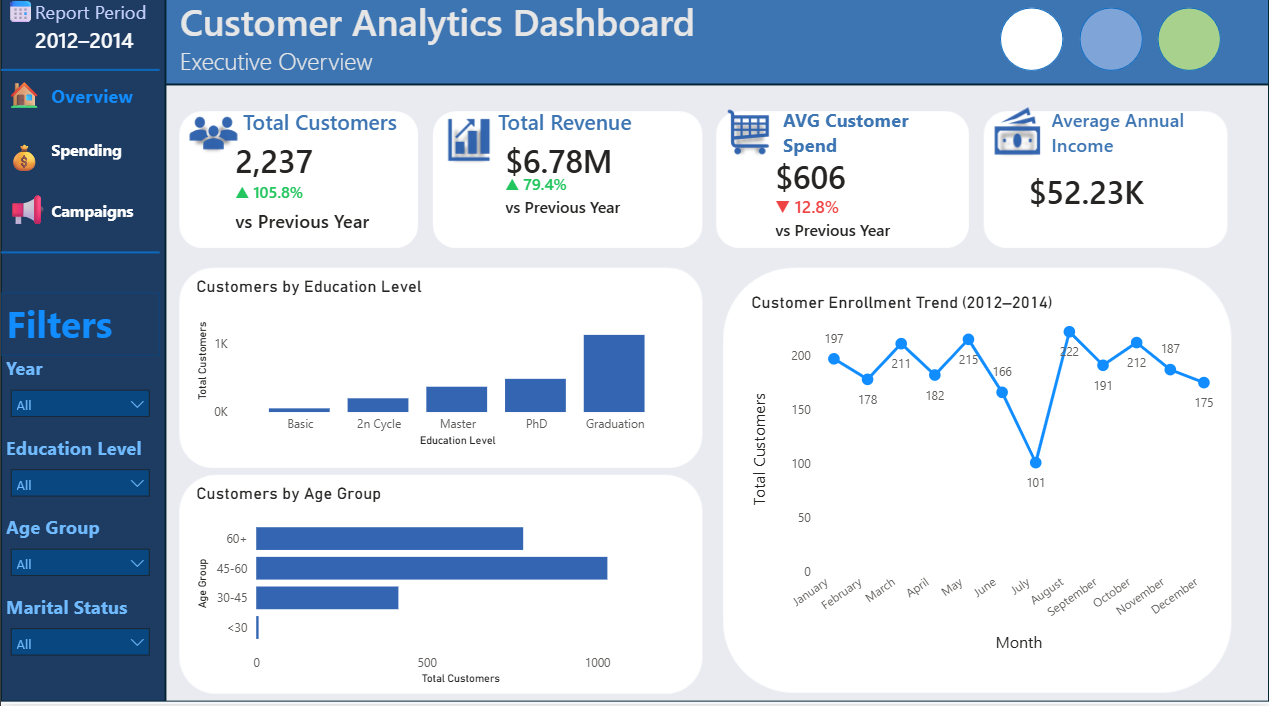

What the dashboard file says about the page in this screenshot:
{"tool":"powerbi","page":{"name":"Overview","canvas":[1280,720],"ordinal":0},"visuals":[{"type":"lineChart","fields":{"Y":["cleaned_marketing_campaign.Total Customers"],"Category":["Calendar.Year","Calendar.Month"]},"box":[752,304,480,368],"z":0},{"type":"clusteredBarChart","title":"Customers by Age Group","fields":{"Category":["cleaned_marketing_campaign.Age Group"],"Y":["cleaned_marketing_campaign.Total Customers"]},"box":[192,496,496,208],"z":1000},{"type":"clusteredColumnChart","title":"Customers by Education Level","fields":{"Category":["cleaned_marketing_campaign.Education Level"],"Y":["cleaned_marketing_campaign.Total Customers"]},"box":[192,288,496,176],"z":2000},{"type":"cardVisual","fields":{"Data":["cleaned_marketing_campaign.Total Customers"]},"box":[208,128,192,80],"z":3000},{"type":"cardVisual","fields":{"Data":["cleaned_marketing_campaign.Total Revenue"]},"box":[480,128,224,80],"z":4000},{"type":"cardVisual","fields":{"Data":["Calendar.Average Customer Spend"]},"box":[752,128,208,112],"z":5000},{"type":"cardVisual","fields":{"Data":["cleaned_marketing_campaign.Average Income"]},"box":[1008,144,208,112],"z":6000},{"type":"textbox","box":[240,112,224,64],"z":7000},{"type":"textbox","box":[496,112,208,80],"z":8000},{"type":"textbox","box":[784,112,192,64],"z":9000},{"type":"textbox","box":[1056,112,208,64],"z":10000},{"type":"pageNavigator","box":[32,64,128,192],"z":11000},{"type":"textbox","box":[0,80,80,48],"z":12000},{"type":"textbox","box":[0,144,64,48],"z":13000},{"type":"textbox","box":[0,192,48,64],"z":14000},{"type":"shape","box":[0,256,160,16],"z":15000},{"type":"shape","box":[0,64,160,32],"z":16000},{"type":"slicer","title":"Year","fields":{"Values":["Calendar.Year"]},"box":[0,368,160,80],"z":17000},{"type":"slicer","title":"Education Level","fields":{"Values":["cleaned_marketing_campaign.Education Level"]},"box":[0,448,160,80],"z":18000},{"type":"slicer","title":"Age Group","fields":{"Values":["cleaned_marketing_campaign.Age Group"]},"box":[0,528,160,80],"z":19000},{"type":"slicer","title":"Marital Status","fields":{"Values":["cleaned_marketing_campaign.Marital Status"]},"box":[0,608,160,64],"z":20000},{"type":"textbox","box":[0,304,160,64],"z":21000},{"type":"textbox","box":[176,0,672,80],"z":22000},{"type":"textbox","box":[176,48,560,80],"z":23000},{"type":"textbox","box":[0,0,160,96],"z":24000},{"type":"shape","box":[1008,16,64,64],"z":25000},{"type":"shape","box":[1088,16,64,64],"z":26000},{"type":"shape","box":[1168,16,64,64],"z":27000},{"type":"cardVisual","fields":{"Data":["Calendar.Customer Growth Label"]},"box":[208,160,128,80],"z":28000},{"type":"cardVisual","fields":{"Data":["Calendar.Customer Growth Text"]},"box":[208,192,224,80],"z":29000},{"type":"cardVisual","fields":{"Data":["Calendar.Revenue Growth Label"]},"box":[480,160,160,64],"z":30000},{"type":"cardVisual","fields":{"Data":["Calendar.Average Customer Spend Growth Label"]},"box":[752,176,160,80],"z":31000},{"type":"cardVisual","fields":{"Data":["Calendar.Customer Growth Text"]},"box":[752,208,176,64],"z":32000},{"type":"cardVisual","fields":{"Data":["Calendar.Customer Growth Text"]},"box":[480,176,176,80],"z":33000}]}

Visuals, with their boxes in screenshot pixels (x1, y1, x2, y2), scaled from the page's 1280x720 canvas onto the 1269x706 screenshot:
lineChart - cleaned_marketing_campaign.Total Customers x Calendar.Year: left=746, top=298, right=1221, bottom=659
"Customers by Age Group" clusteredBarChart: left=190, top=486, right=682, bottom=690
"Customers by Education Level" clusteredColumnChart: left=190, top=282, right=682, bottom=455
cardVisual - cleaned_marketing_campaign.Total Customers: left=206, top=126, right=397, bottom=204
cardVisual - cleaned_marketing_campaign.Total Revenue: left=476, top=126, right=698, bottom=204
cardVisual - Calendar.Average Customer Spend: left=746, top=126, right=952, bottom=235
cardVisual - cleaned_marketing_campaign.Average Income: left=999, top=141, right=1206, bottom=251
textbox: left=238, top=110, right=460, bottom=173
textbox: left=492, top=110, right=698, bottom=188
textbox: left=777, top=110, right=968, bottom=173
textbox: left=1047, top=110, right=1253, bottom=173
pageNavigator: left=32, top=63, right=159, bottom=251
textbox: left=0, top=78, right=79, bottom=126
textbox: left=0, top=141, right=63, bottom=188
textbox: left=0, top=188, right=48, bottom=251
shape: left=0, top=251, right=159, bottom=267
shape: left=0, top=63, right=159, bottom=94
"Year" slicer: left=0, top=361, right=159, bottom=439
"Education Level" slicer: left=0, top=439, right=159, bottom=518
"Age Group" slicer: left=0, top=518, right=159, bottom=596
"Marital Status" slicer: left=0, top=596, right=159, bottom=659
textbox: left=0, top=298, right=159, bottom=361
textbox: left=174, top=0, right=841, bottom=78
textbox: left=174, top=47, right=730, bottom=126
textbox: left=0, top=0, right=159, bottom=94
shape: left=999, top=16, right=1063, bottom=78
shape: left=1079, top=16, right=1142, bottom=78
shape: left=1158, top=16, right=1221, bottom=78
cardVisual - Calendar.Customer Growth Label: left=206, top=157, right=333, bottom=235
cardVisual - Calendar.Customer Growth Text: left=206, top=188, right=428, bottom=267
cardVisual - Calendar.Revenue Growth Label: left=476, top=157, right=634, bottom=220
cardVisual - Calendar.Average Customer Spend Growth Label: left=746, top=173, right=904, bottom=251
cardVisual - Calendar.Customer Growth Text: left=746, top=204, right=920, bottom=267
cardVisual - Calendar.Customer Growth Text: left=476, top=173, right=650, bottom=251
